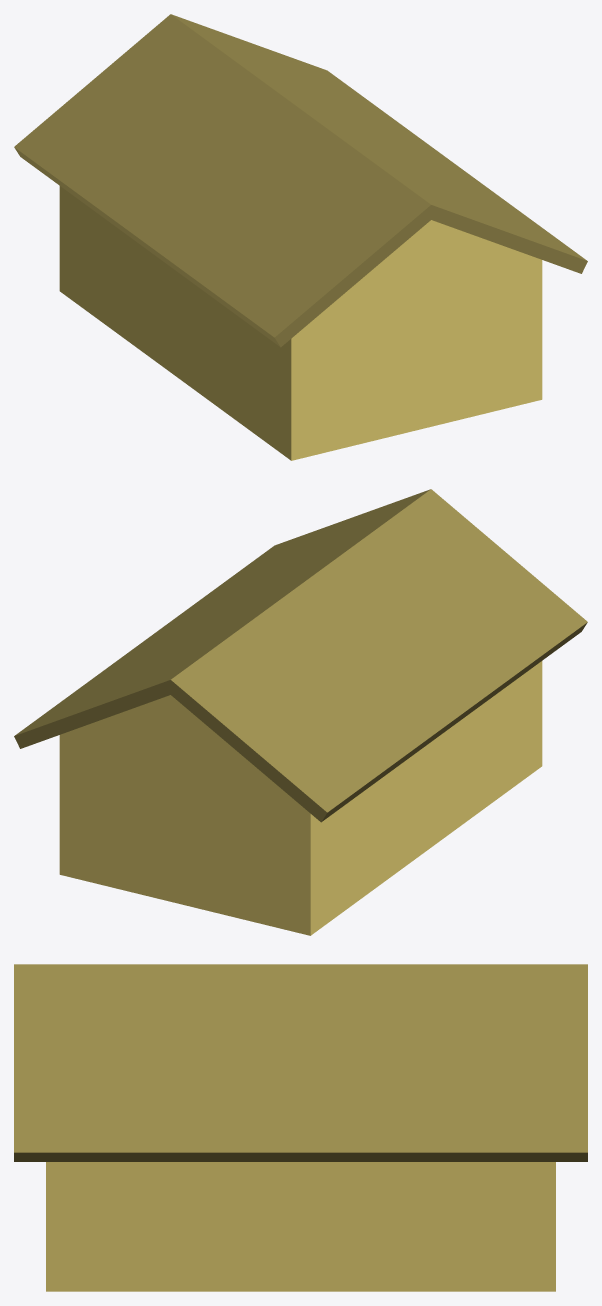
The model's file is result.glb.
3 views of the same model, one above another, from view 1: azimuth 30°, elevation 25°; view 2: azimuth 150°, elevation 25°; view 3: azimuth 270°, elevation 25° (orthographic). The views are drawn at different scales.
Visible parts, largest first — view 1: 1aa844b5-ccfd-495a-adba-a27a7469246e__undefined (×2), 2f473df9-b2e5-44d4-ba8a-6c1786d40d2d__undefined; view 2: 1aa844b5-ccfd-495a-adba-a27a7469246e__undefined (×2), 2f473df9-b2e5-44d4-ba8a-6c1786d40d2d__undefined; view 3: 1aa844b5-ccfd-495a-adba-a27a7469246e__undefined, 2f473df9-b2e5-44d4-ba8a-6c1786d40d2d__undefined.
Boxes of the visible parts, <box> form: 1aa844b5-ccfd-495a-adba-a27a7469246e__undefined (×2): <box>14,14,587,347</box>; 2f473df9-b2e5-44d4-ba8a-6c1786d40d2d__undefined: <box>59,186,542,460</box>; 1aa844b5-ccfd-495a-adba-a27a7469246e__undefined (×2): <box>14,489,587,822</box>; 2f473df9-b2e5-44d4-ba8a-6c1786d40d2d__undefined: <box>59,661,542,935</box>; 1aa844b5-ccfd-495a-adba-a27a7469246e__undefined: <box>14,964,587,1161</box>; 2f473df9-b2e5-44d4-ba8a-6c1786d40d2d__undefined: <box>46,1162,555,1291</box>.
Size of the model in its own units: 625 by 450 by 900.
